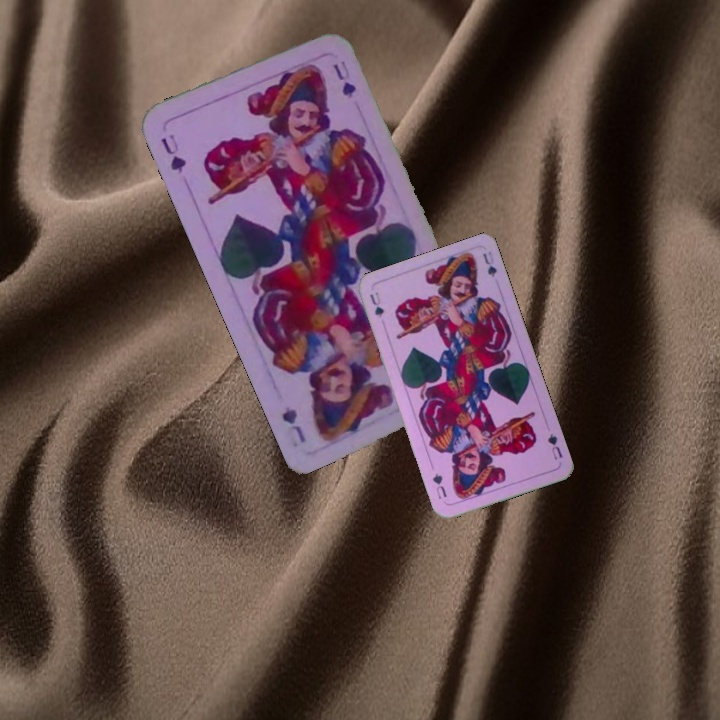GU: (157, 130, 190, 176), (543, 429, 565, 462), (365, 288, 386, 320)
